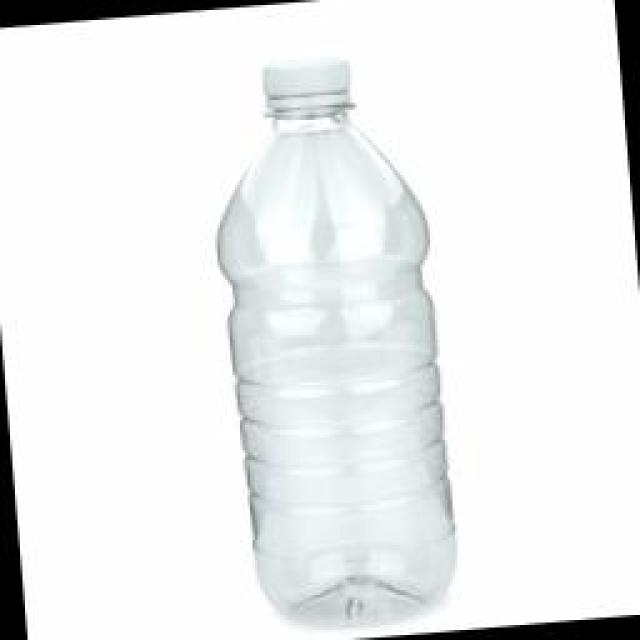bottle: (217, 59, 458, 634)
